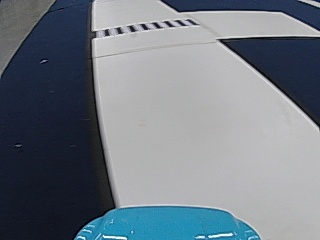CrossWalk: (101, 16, 192, 37)
